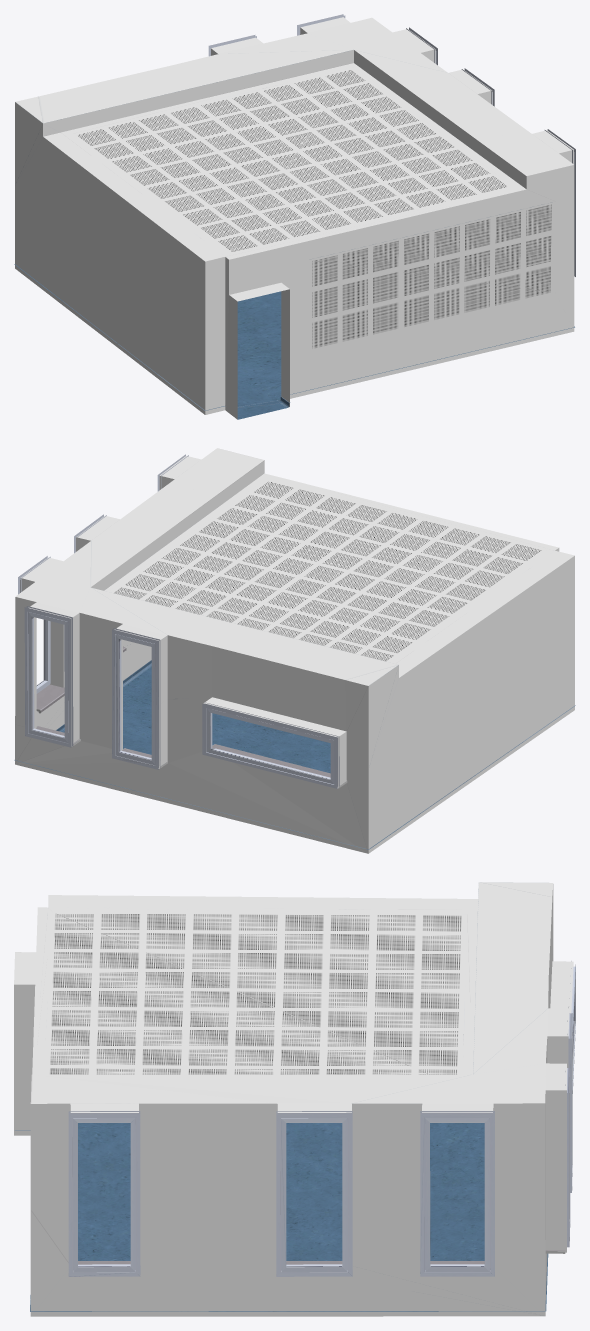
3 views of the same model, one above another, from view 1: azimuth 30°, elevation 25°; view 2: azimuth 150°, elevation 25°; view 3: azimuth 270°, elevation 25° (orthographic). The views are drawn at different scales.
Visible parts, largest first — view 1: SM_EB408; view 2: SM_EB408; view 3: SM_EB408.
Part boxes in pixels (x1,y1,x2,y2): SM_EB408: (14,14,575,419); SM_EB408: (14,448,575,853); SM_EB408: (14,882,575,1316).
Bounding box in the file's own units: 7.96 × 3.37 × 7.99.
